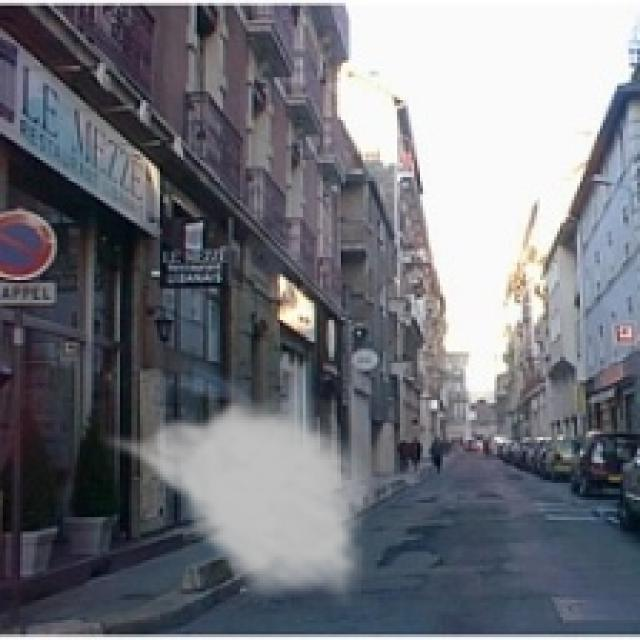smoke: (97, 392, 377, 608)
